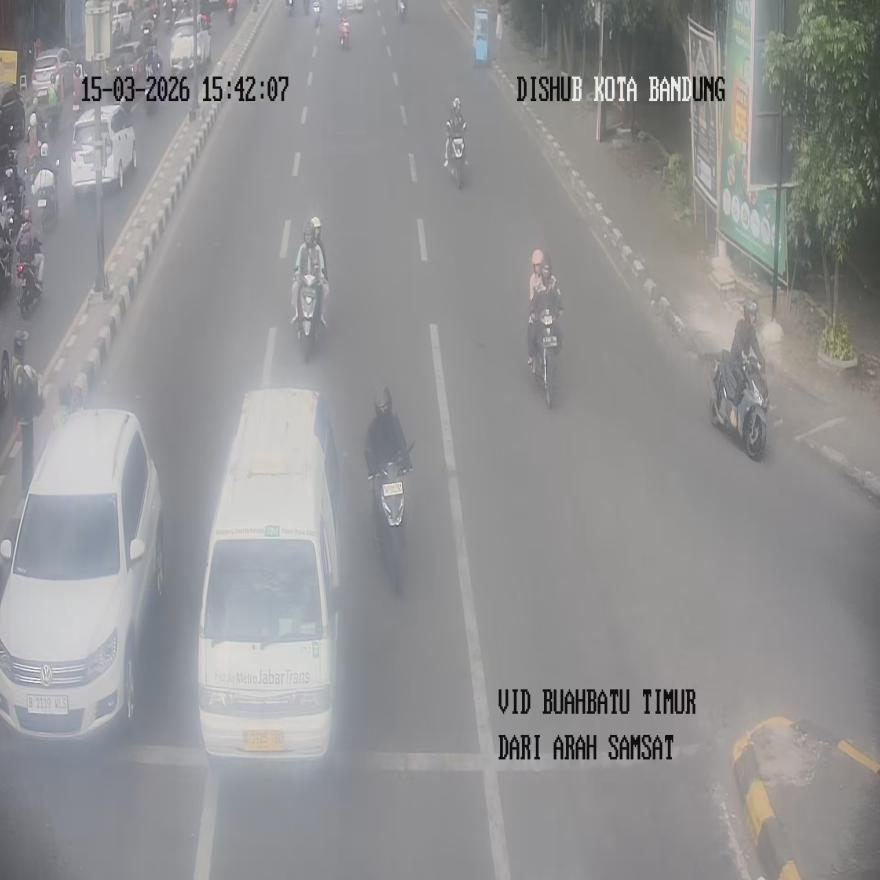Mobil: (0, 405, 164, 741), (198, 387, 341, 764), (71, 104, 136, 195)
Motor: (710, 350, 768, 460), (370, 444, 412, 595), (529, 304, 560, 407), (294, 270, 324, 361), (15, 250, 43, 319), (30, 167, 58, 231), (444, 127, 468, 188), (473, 6, 489, 67), (338, 14, 350, 49), (226, 0, 236, 24), (396, 0, 406, 22), (314, 0, 321, 28), (286, 0, 293, 13)
